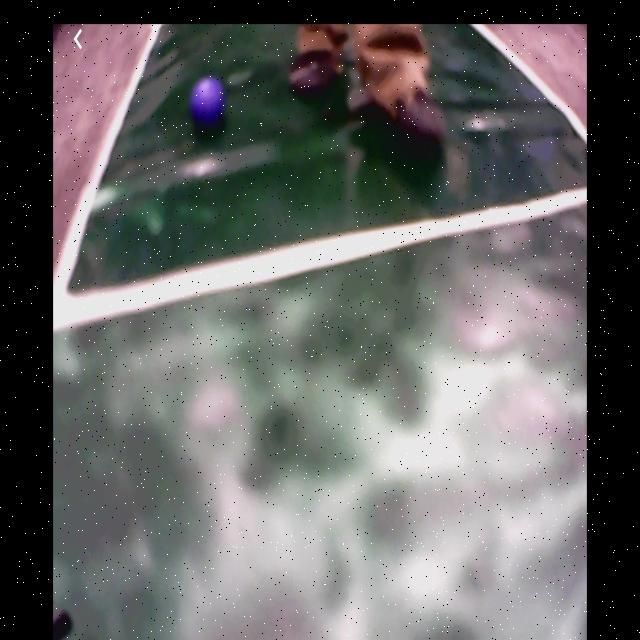ball: (191, 82, 227, 131)
